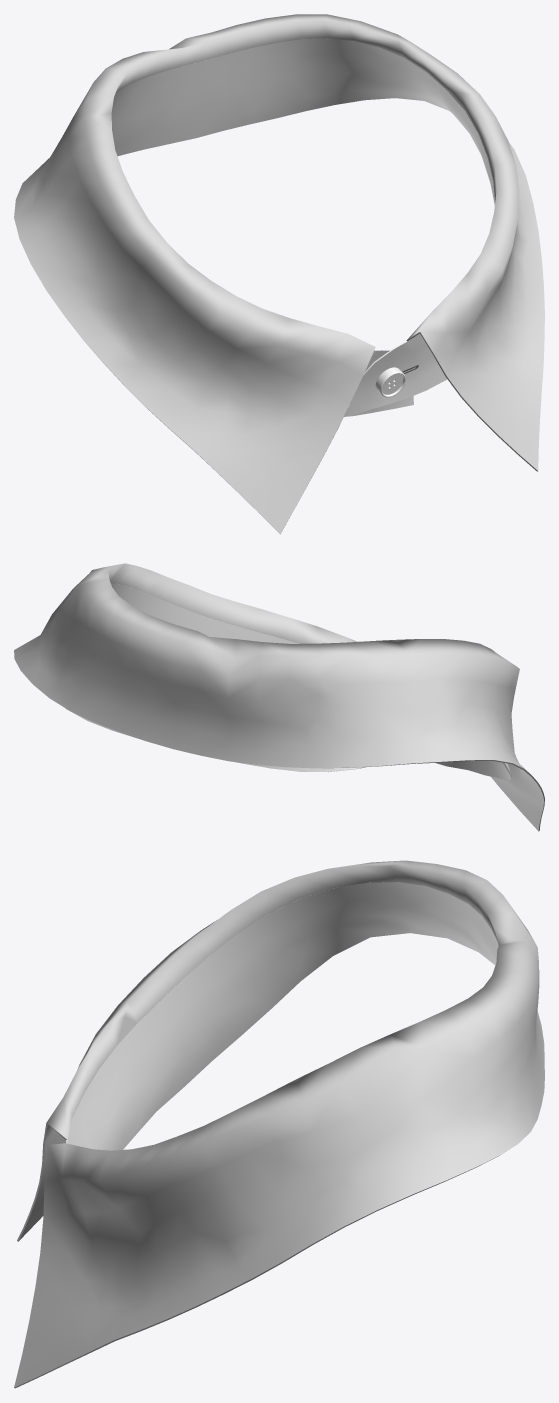
File: collar-1.glb
3 views of the same model, one above another, from view 1: azimuth 30°, elevation 25°; view 2: azimuth 150°, elevation 25°; view 3: azimuth 270°, elevation 25° (orthographic). The views are drawn at different scales.
Parts seen in each view (by area): view 1: Collar_Node, Collar_Stand_Node, MatShape_379799_Node; view 2: Collar_Node, Collar_Stand_Node; view 3: Collar_Node, Collar_Stand_Node.
Boxes of the visible parts, x1,y1,x2,y2 form: Collar_Node: (14,14,544,534); Collar_Stand_Node: (111,38,494,416); MatShape_379799_Node: (375,367,405,397); Collar_Node: (14,563,544,831); Collar_Stand_Node: (65,583,512,780); Collar_Node: (14,860,544,1388); Collar_Stand_Node: (66,882,498,1150).
Size of the model in its own units: 0.1802 by 0.1135 by 0.1445.
4 materials, 1 textured.
